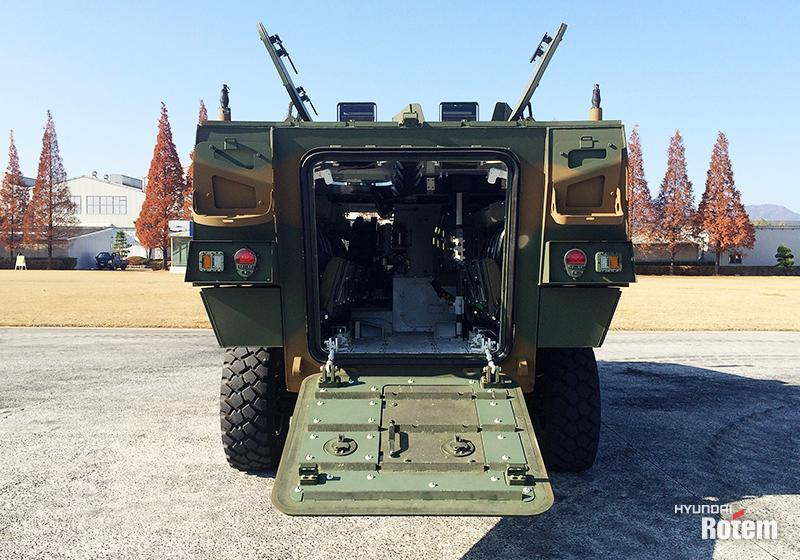MIL_IFV: (182, 16, 643, 524)
